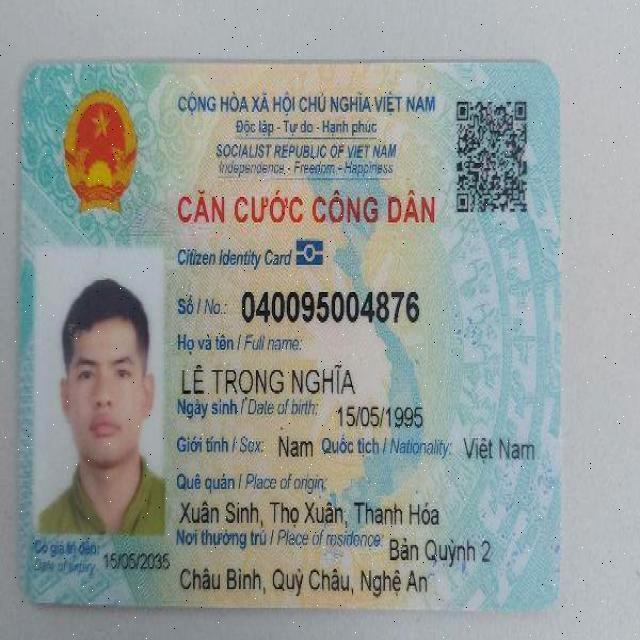current_place: (179, 561, 429, 598), (382, 534, 492, 564)
dob: (334, 401, 425, 429)
expire_date: (103, 548, 172, 570)
gender: (274, 431, 319, 462)
id: (239, 288, 422, 328)
name: (180, 357, 360, 396)
nationality: (459, 428, 534, 465)
origin_place: (181, 495, 439, 532)
qr: (451, 96, 534, 216)
